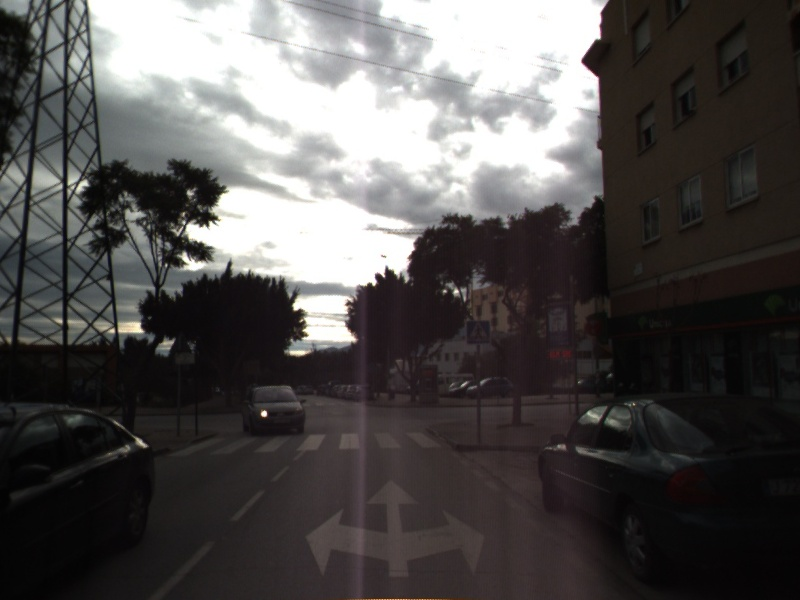STRAIGHT_LEFT_RIGHT: (302, 475, 489, 580)
